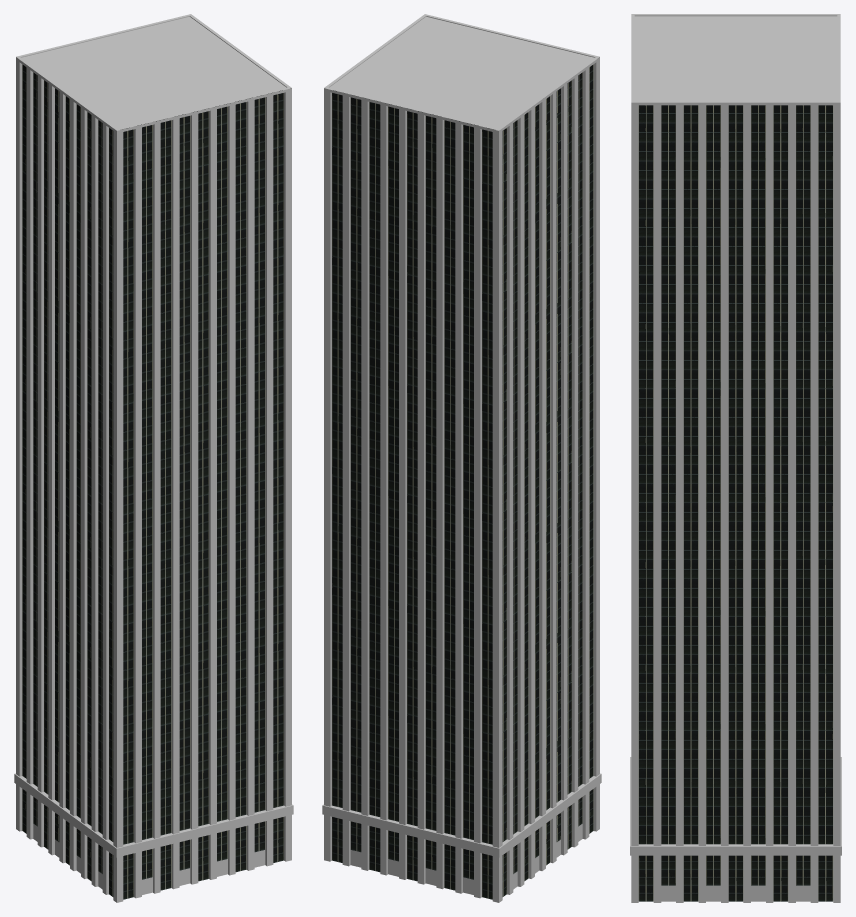
The picture shows the model from 3 angles, left to right: view 1: azimuth 30°, elevation 25°; view 2: azimuth 150°, elevation 25°; view 3: azimuth 270°, elevation 25°; orthographic projection. The views are drawn at different scales.
Parts seen in each view (by area): view 1: EC-031; view 2: EC-031; view 3: EC-031.
Part boxes in pixels (left/top/right/bottom): EC-031: left=14, top=14, right=293, bottom=902; EC-031: left=322, top=14, right=601, bottom=902; EC-031: left=630, top=14, right=841, bottom=902.
Size of what is drawn, in the model's own units: 30.35 by 126 by 30.35.
